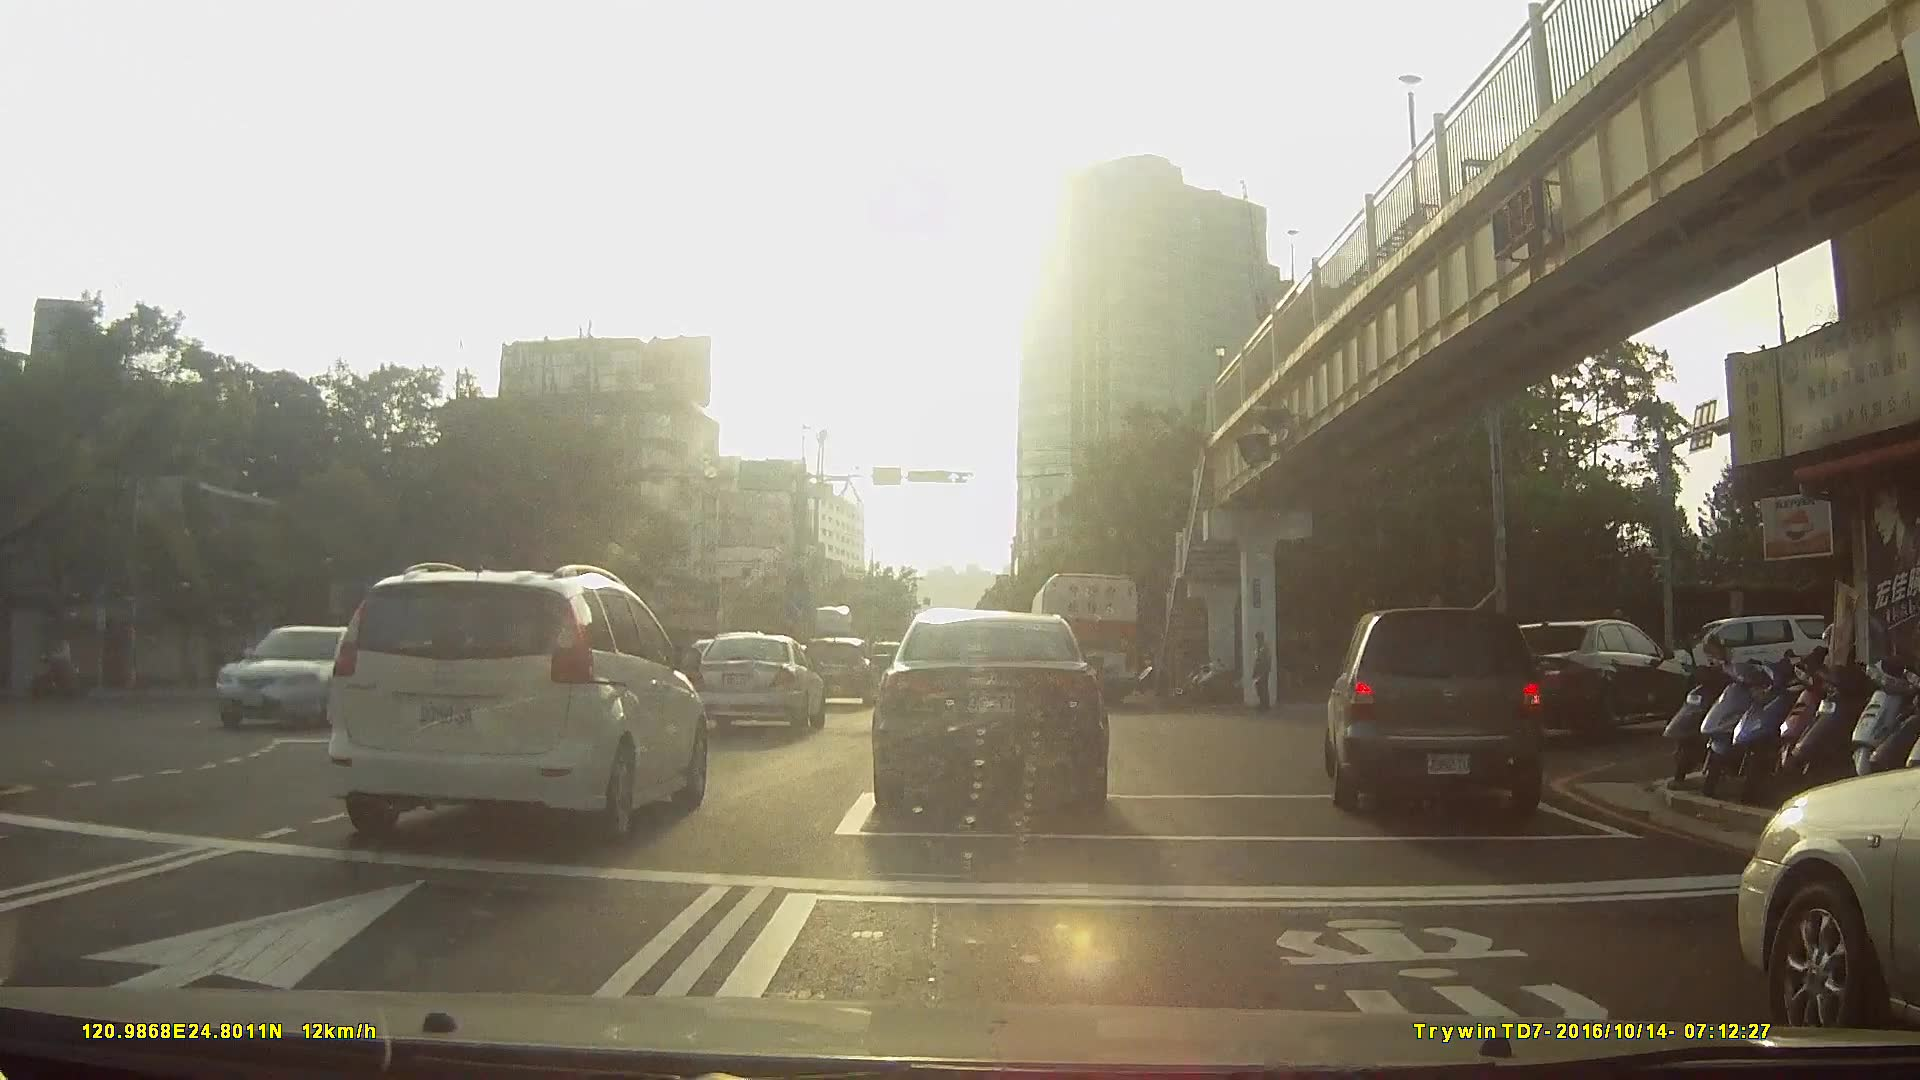pedestrian: (1248, 626, 1281, 711)
vehicle: (325, 556, 710, 843), (1310, 598, 1558, 817), (875, 596, 1112, 815), (1488, 614, 1737, 737), (194, 615, 410, 725), (1029, 564, 1141, 701), (693, 627, 828, 733), (804, 631, 880, 703)
